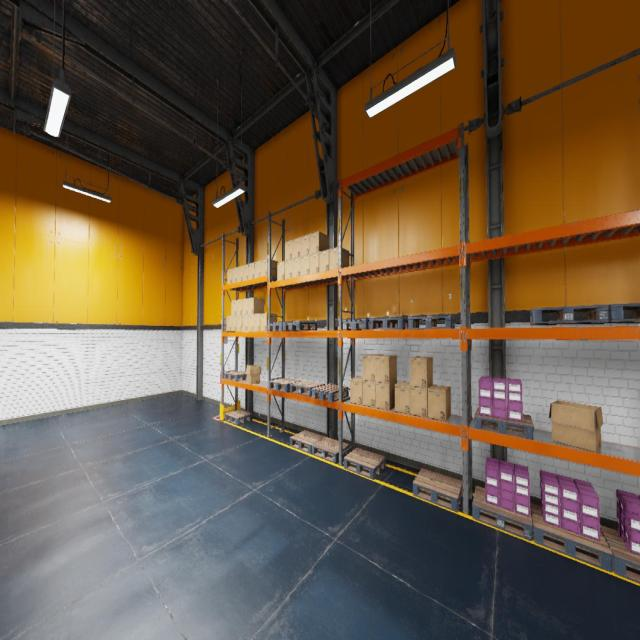box: (549, 400, 603, 452), (428, 385, 450, 421), (410, 357, 433, 388), (410, 385, 432, 417), (375, 355, 397, 383), (376, 381, 396, 410), (362, 354, 381, 382), (395, 381, 410, 414), (329, 247, 349, 270), (310, 231, 328, 254), (350, 376, 362, 405), (261, 258, 278, 278), (363, 381, 375, 407), (260, 313, 277, 331), (246, 365, 261, 383), (248, 298, 264, 314), (319, 249, 329, 272), (292, 237, 301, 258), (301, 234, 309, 257), (310, 252, 318, 274), (301, 255, 309, 275), (292, 258, 300, 278), (284, 259, 292, 279), (285, 240, 292, 261), (277, 261, 284, 280), (254, 260, 261, 278), (254, 314, 260, 331), (242, 298, 248, 315), (248, 262, 254, 279), (236, 316, 242, 332), (236, 300, 242, 316), (248, 314, 253, 331), (242, 315, 247, 331), (243, 264, 248, 280), (237, 266, 242, 282), (232, 267, 237, 283), (227, 268, 232, 284), (226, 316, 231, 331), (232, 300, 236, 316), (232, 316, 236, 331)
pallets: (531, 503, 612, 572), (472, 486, 532, 541), (600, 525, 640, 583), (413, 468, 462, 512), (474, 408, 534, 439), (530, 304, 609, 324), (344, 448, 385, 479), (312, 437, 349, 463), (598, 303, 640, 323), (290, 431, 325, 454), (312, 384, 348, 402), (408, 316, 455, 329), (290, 381, 324, 396), (268, 378, 302, 392), (369, 318, 408, 330), (225, 409, 252, 425), (283, 322, 317, 331), (342, 319, 369, 329), (224, 371, 247, 381), (267, 322, 289, 331)
